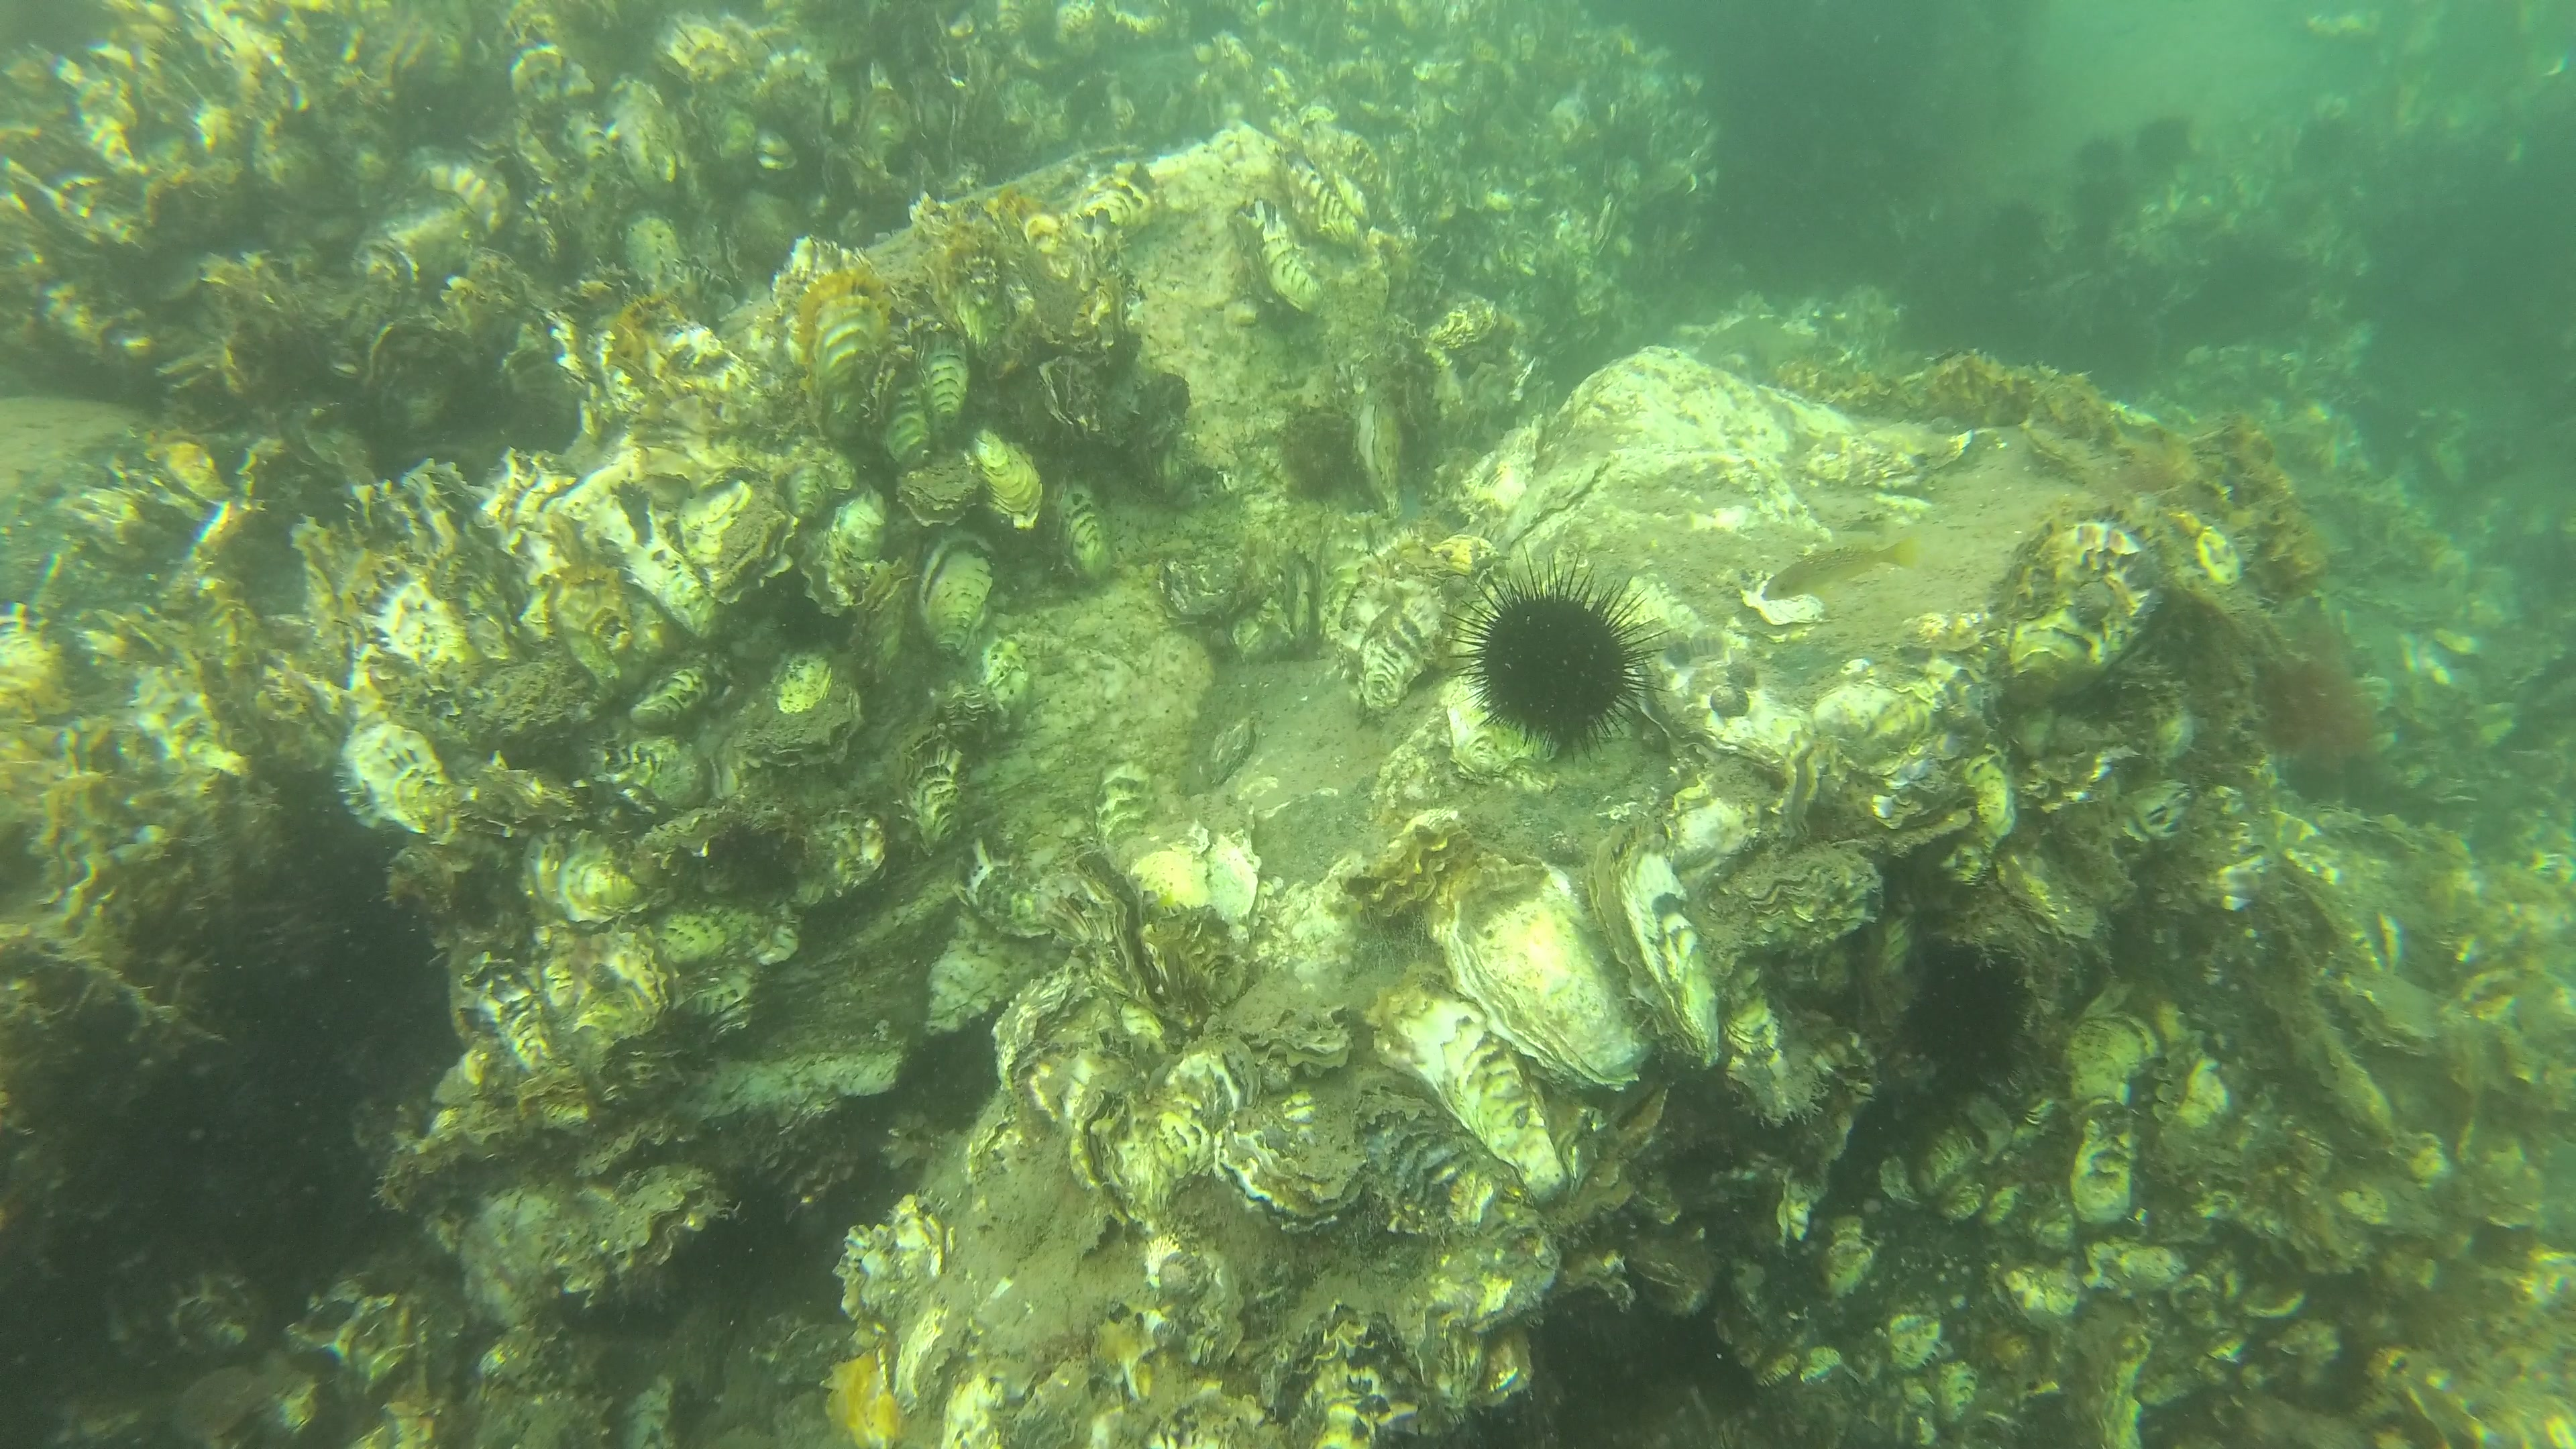echinus: (1456, 543, 1654, 755)
